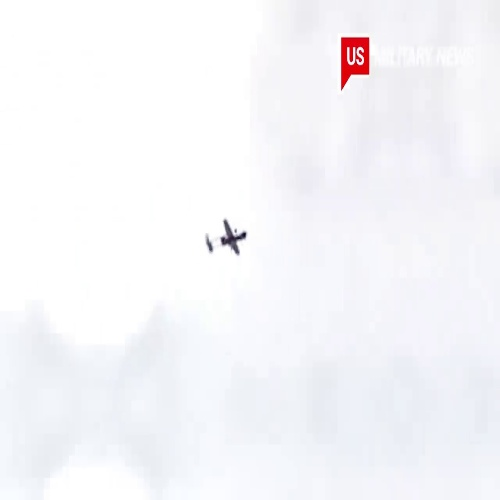uav: (204, 215, 247, 261)
